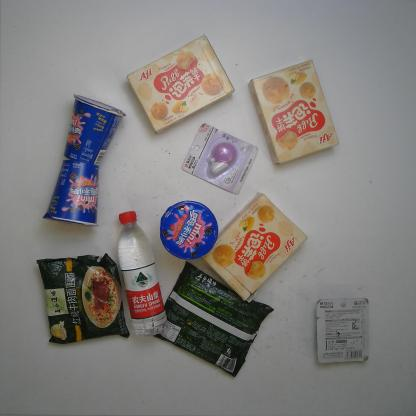Dessert: (203, 192, 308, 304), (127, 36, 235, 135), (248, 58, 340, 167), (63, 92, 126, 162), (43, 160, 100, 228), (158, 200, 220, 261)
Drink: (116, 210, 166, 336)
Instant Noodles: (153, 262, 274, 377), (35, 252, 130, 344)
Stationery: (180, 123, 258, 195), (315, 298, 370, 363)
